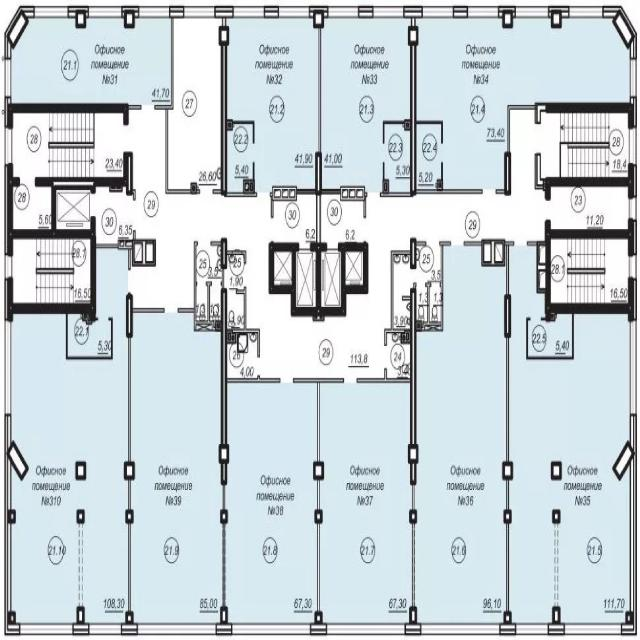Bathrooms: (387, 333, 410, 378), (196, 245, 221, 282), (393, 255, 413, 300), (224, 254, 244, 290), (227, 294, 244, 328), (394, 300, 410, 328), (197, 286, 208, 321), (430, 287, 441, 322), (210, 287, 221, 319), (417, 287, 427, 321)
Corridors: (129, 110, 545, 378), (551, 187, 628, 229), (96, 186, 133, 243), (273, 194, 316, 242), (321, 195, 364, 242), (528, 313, 571, 356), (68, 314, 111, 357), (96, 114, 123, 177), (13, 186, 52, 229), (385, 124, 410, 191), (227, 124, 252, 191), (417, 124, 440, 188), (540, 111, 559, 179), (417, 246, 440, 281)
Doors: (123, 124, 129, 152), (535, 124, 541, 152), (19, 177, 35, 186), (545, 199, 551, 220), (91, 193, 95, 216), (133, 200, 136, 230), (256, 192, 270, 198), (450, 240, 464, 246), (164, 307, 177, 313), (299, 243, 310, 250), (327, 243, 338, 250), (271, 217, 274, 242), (363, 217, 366, 242), (514, 241, 528, 246), (128, 270, 131, 293), (384, 345, 387, 368), (367, 192, 380, 197), (252, 142, 255, 163), (198, 241, 210, 246), (141, 105, 155, 109), (482, 189, 496, 193), (200, 190, 213, 194), (344, 379, 357, 383), (531, 317, 541, 322), (416, 282, 426, 287), (280, 378, 292, 382), (244, 263, 246, 286), (431, 282, 440, 287), (211, 282, 222, 286), (413, 268, 416, 282), (98, 317, 108, 321), (258, 356, 260, 375), (383, 143, 385, 162), (227, 290, 236, 294), (427, 242, 439, 245), (441, 144, 443, 162), (393, 297, 401, 301), (197, 282, 206, 285)
LBwalls: (4, 151, 134, 325), (545, 218, 637, 323), (268, 241, 368, 323), (612, 415, 637, 635), (5, 415, 29, 636), (534, 153, 637, 201), (4, 97, 129, 129), (534, 96, 637, 130), (602, 5, 637, 60), (5, 5, 35, 61), (409, 46, 416, 196), (221, 46, 228, 196), (410, 287, 416, 444), (221, 288, 227, 444), (126, 292, 133, 338), (504, 293, 511, 338), (504, 153, 511, 197), (315, 151, 322, 194), (68, 5, 89, 18), (548, 5, 568, 18), (404, 5, 423, 18), (216, 622, 233, 636), (309, 6, 327, 19), (75, 461, 87, 480), (498, 5, 515, 18), (121, 622, 138, 635), (310, 622, 327, 635), (499, 623, 516, 636), (121, 6, 139, 18), (313, 9, 324, 28), (75, 10, 86, 29), (548, 623, 565, 635), (215, 7, 233, 18), (405, 622, 420, 635), (410, 237, 416, 269), (221, 237, 227, 269), (73, 623, 89, 635), (408, 27, 418, 46), (218, 26, 228, 45), (124, 9, 134, 28), (551, 461, 561, 480), (503, 461, 513, 480), (408, 444, 418, 463), (313, 461, 323, 480), (219, 445, 229, 464), (124, 461, 134, 480), (502, 10, 513, 27), (264, 6, 279, 18), (169, 6, 184, 18), (551, 10, 561, 27), (453, 6, 468, 17), (552, 605, 561, 623), (76, 606, 85, 624), (359, 5, 372, 17), (409, 606, 417, 624), (220, 606, 228, 624), (221, 463, 227, 486), (125, 509, 134, 524), (219, 508, 228, 523), (410, 464, 416, 486), (315, 509, 323, 524), (77, 509, 85, 524), (126, 610, 134, 624), (314, 610, 322, 624), (409, 510, 417, 524), (504, 509, 512, 523), (552, 509, 560, 523), (625, 612, 633, 626), (504, 610, 512, 624)
Offices: (509, 245, 630, 624), (11, 248, 128, 624), (417, 18, 630, 188), (415, 246, 506, 623), (131, 313, 223, 623), (320, 383, 412, 623), (226, 383, 317, 622), (227, 18, 319, 193), (321, 18, 411, 192), (11, 18, 171, 105), (169, 18, 222, 190)
Stairs: (13, 113, 96, 177), (13, 238, 90, 303), (551, 238, 628, 303), (558, 114, 629, 177)
Walls: (154, 18, 201, 194), (292, 377, 344, 462), (177, 241, 221, 332), (416, 241, 451, 332), (463, 240, 514, 294), (384, 250, 410, 347), (96, 230, 156, 270), (227, 286, 260, 357), (526, 313, 574, 360), (66, 314, 113, 360), (322, 186, 368, 218), (269, 186, 315, 218), (507, 105, 535, 153), (527, 240, 546, 295), (357, 368, 410, 383), (416, 120, 443, 145), (382, 119, 409, 144), (227, 119, 254, 144), (243, 161, 255, 193), (227, 375, 281, 382), (318, 28, 321, 152), (128, 338, 131, 461), (417, 189, 483, 193), (506, 523, 509, 610), (228, 250, 246, 264), (506, 338, 508, 461), (316, 195, 321, 242), (382, 161, 389, 193), (132, 307, 164, 314), (128, 524, 130, 610), (318, 524, 320, 610), (223, 523, 225, 607), (412, 523, 414, 607), (437, 162, 443, 188), (227, 192, 257, 197), (380, 192, 410, 197), (506, 479, 509, 509), (128, 480, 131, 510), (317, 480, 320, 509), (129, 105, 141, 111), (496, 188, 506, 194), (412, 484, 414, 511), (210, 241, 220, 246), (223, 486, 225, 509), (212, 189, 221, 194), (416, 241, 427, 245), (411, 18, 416, 26), (222, 269, 224, 287), (401, 296, 410, 300), (133, 189, 136, 201), (221, 18, 226, 25), (541, 317, 546, 322), (413, 282, 416, 287), (96, 317, 98, 321)
Windows: (327, 623, 405, 635), (421, 623, 499, 635), (137, 624, 216, 635), (232, 624, 310, 635), (565, 624, 622, 635), (5, 319, 11, 414), (630, 320, 636, 414), (20, 624, 73, 634), (515, 6, 548, 18), (89, 623, 121, 635), (89, 6, 121, 18), (34, 6, 68, 17), (569, 7, 602, 18), (328, 6, 358, 18), (373, 5, 403, 17), (468, 6, 498, 18), (516, 624, 548, 635), (279, 7, 308, 18), (233, 7, 264, 17), (422, 7, 453, 17), (139, 6, 169, 16), (184, 7, 214, 17), (5, 127, 12, 164), (630, 128, 636, 165), (5, 58, 10, 97), (631, 59, 636, 96), (5, 254, 12, 280), (629, 198, 636, 220), (630, 254, 636, 279)
